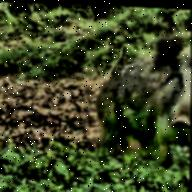boar: (73, 29, 192, 158)
